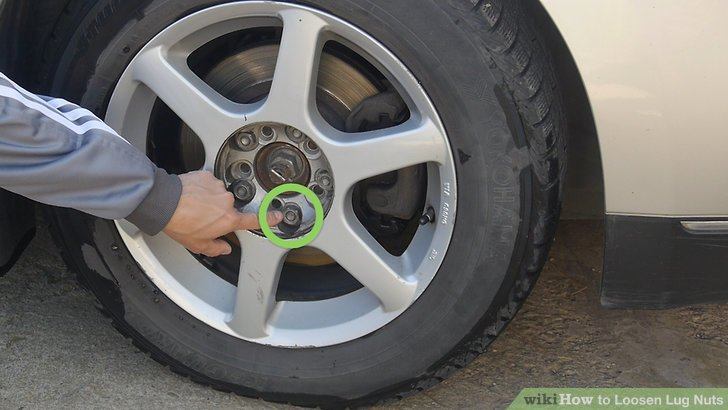tire: (62, 1, 580, 410)
